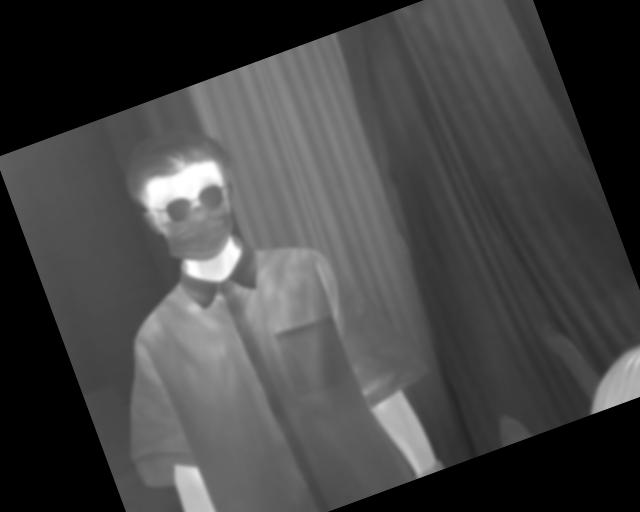face: (108, 112, 264, 280)
